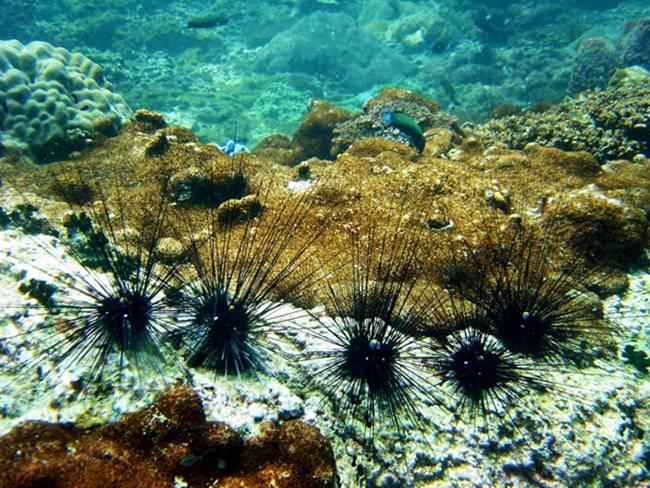urchin: (0, 147, 229, 405), (291, 182, 467, 483), (120, 166, 359, 384), (395, 233, 596, 455), (454, 164, 649, 367)
